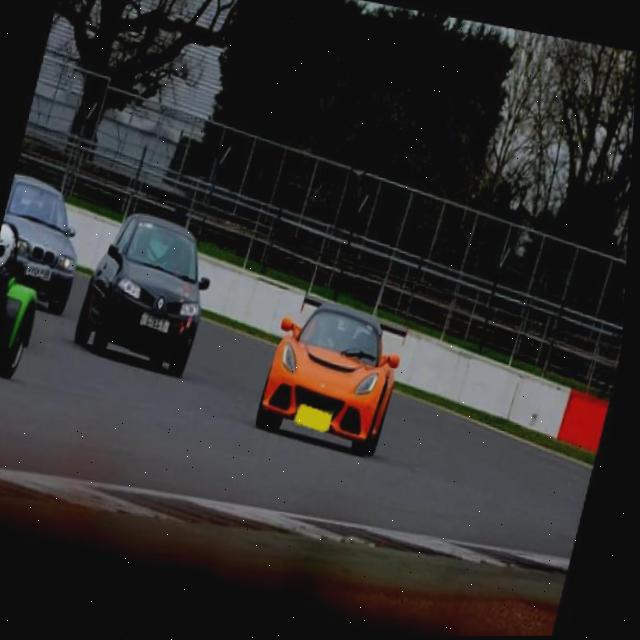LicensePlate: (298, 402, 336, 432), (142, 314, 170, 331), (29, 263, 51, 276)
